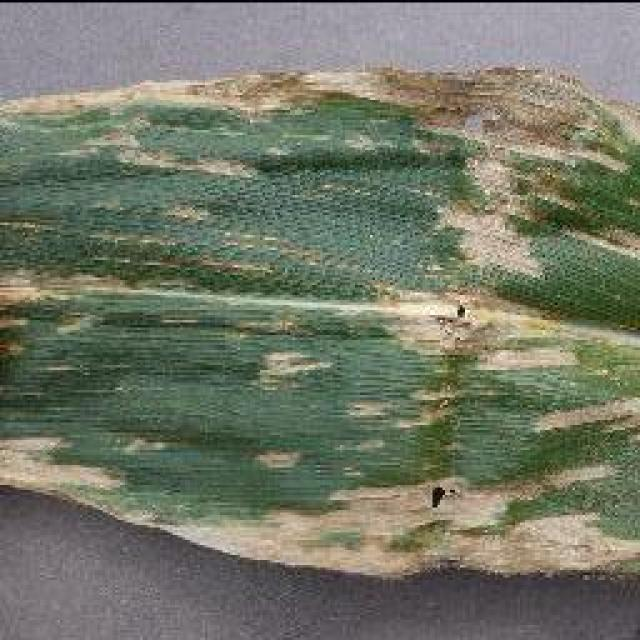Corn_Grey_Leaf_Spot: (0, 62, 640, 562)
